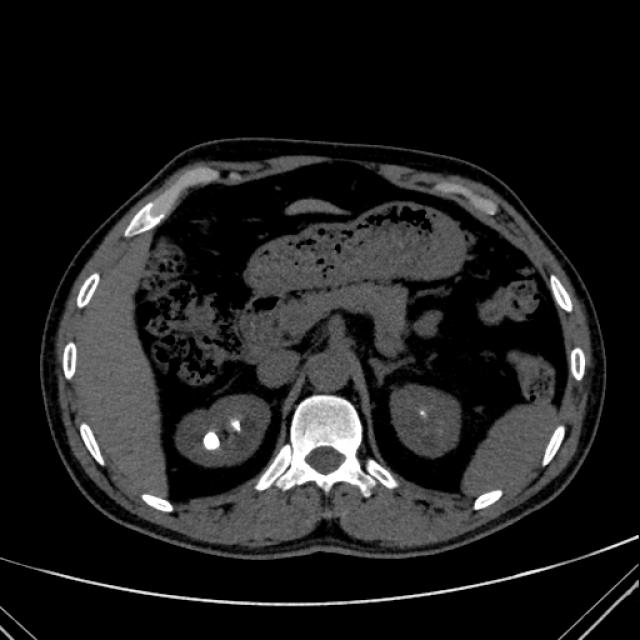kidneystone: (202, 431, 220, 451), (179, 446, 194, 459), (231, 418, 240, 433)
